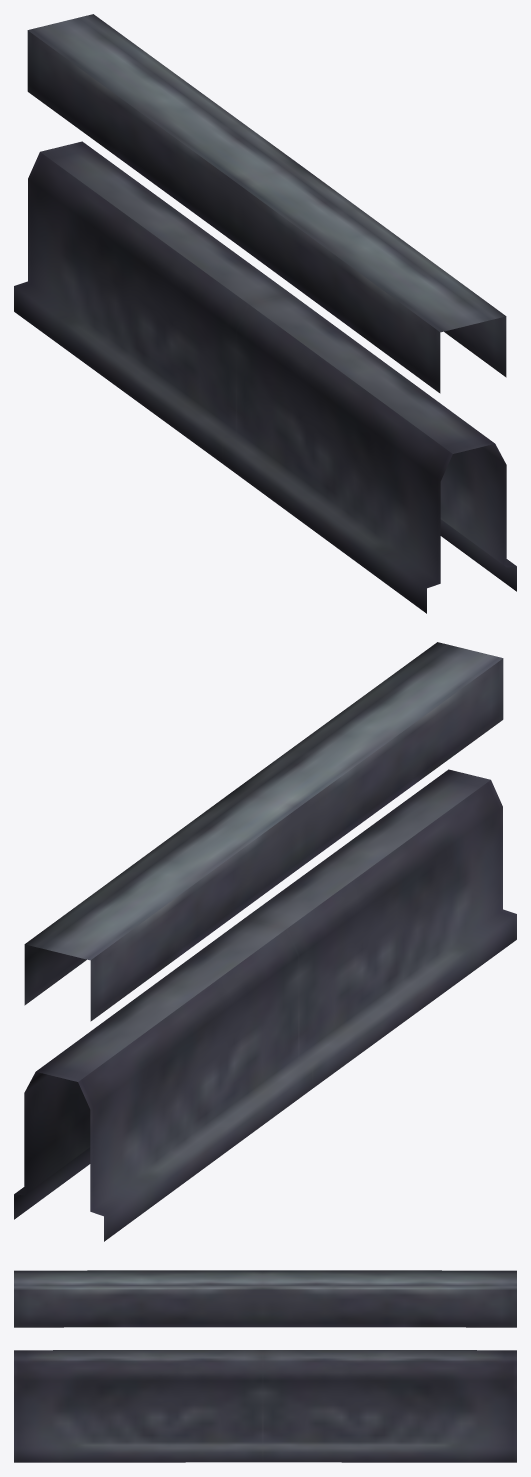
File: Map08_Building_08.FBX
3 renders of one model, top to bottom at view 1: azimuth 30°, elevation 25°; view 2: azimuth 150°, elevation 25°; view 3: azimuth 270°, elevation 25°, orthographic. The views are drawn at different scales.
Visible parts, largest first — view 1: Map08_Building_08; view 2: Map08_Building_08; view 3: Map08_Building_08.
Part boxes in pixels (box(x1,y1,x2,y2)): Map08_Building_08: box(14, 14, 516, 613); Map08_Building_08: box(14, 642, 516, 1241); Map08_Building_08: box(14, 1270, 516, 1462).
Bounding box in the file's own units: 14.44 × 42.71 × 115.
